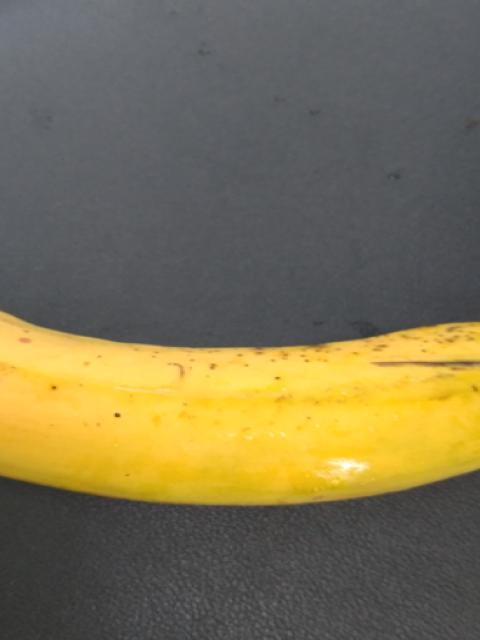freshripe: (10, 301, 479, 531)
